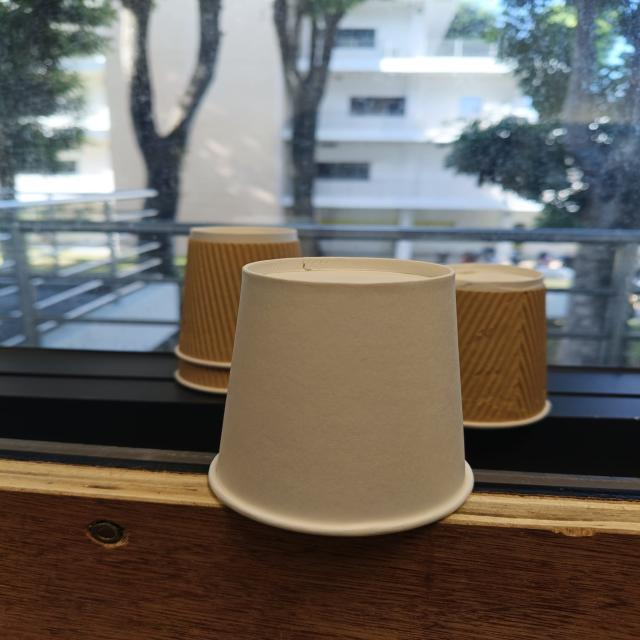Browncup: (449, 262, 550, 428), (180, 227, 301, 362), (175, 359, 229, 392)
Whitecup: (210, 257, 473, 536)
